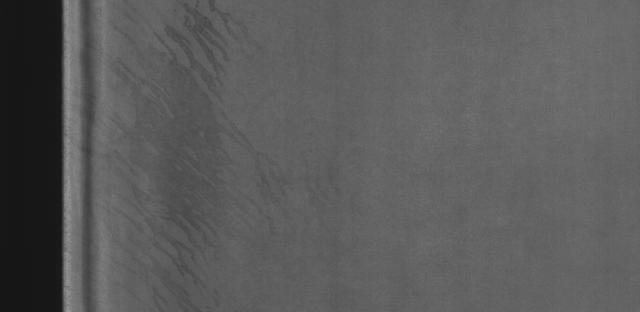water_spot: (103, 5, 276, 312)
